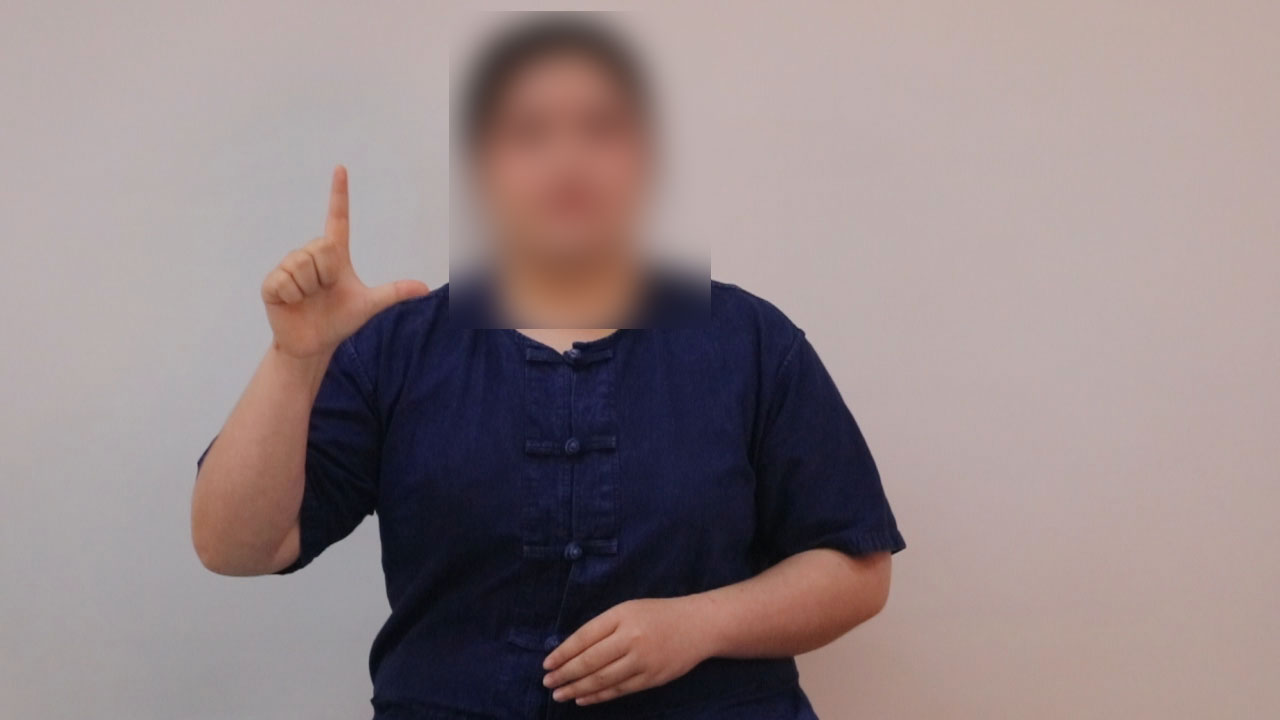lor: (250, 138, 461, 385)
